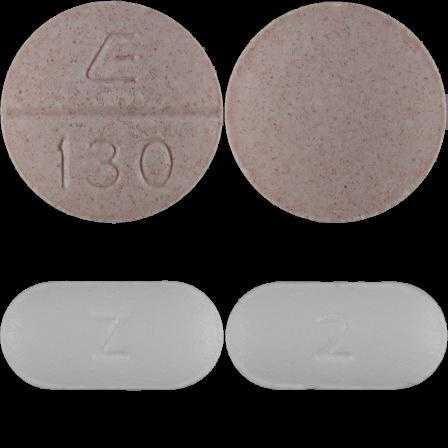70786-0130: (0, 0, 224, 224)
